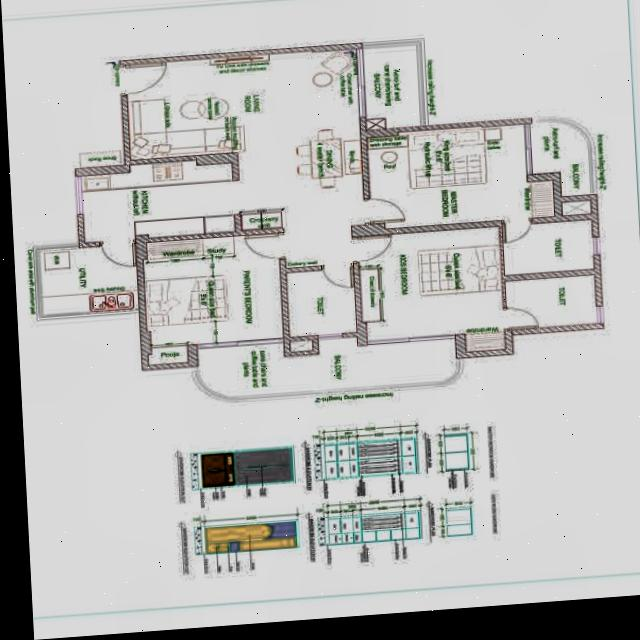room: (122, 46, 364, 161), (363, 123, 555, 230), (357, 228, 503, 355), (144, 233, 283, 346), (81, 159, 235, 242), (273, 119, 363, 205), (38, 245, 138, 314), (360, 45, 420, 130), (502, 220, 593, 276), (505, 275, 596, 329), (288, 268, 355, 338), (147, 346, 187, 365), (560, 201, 590, 215), (289, 340, 312, 352)
